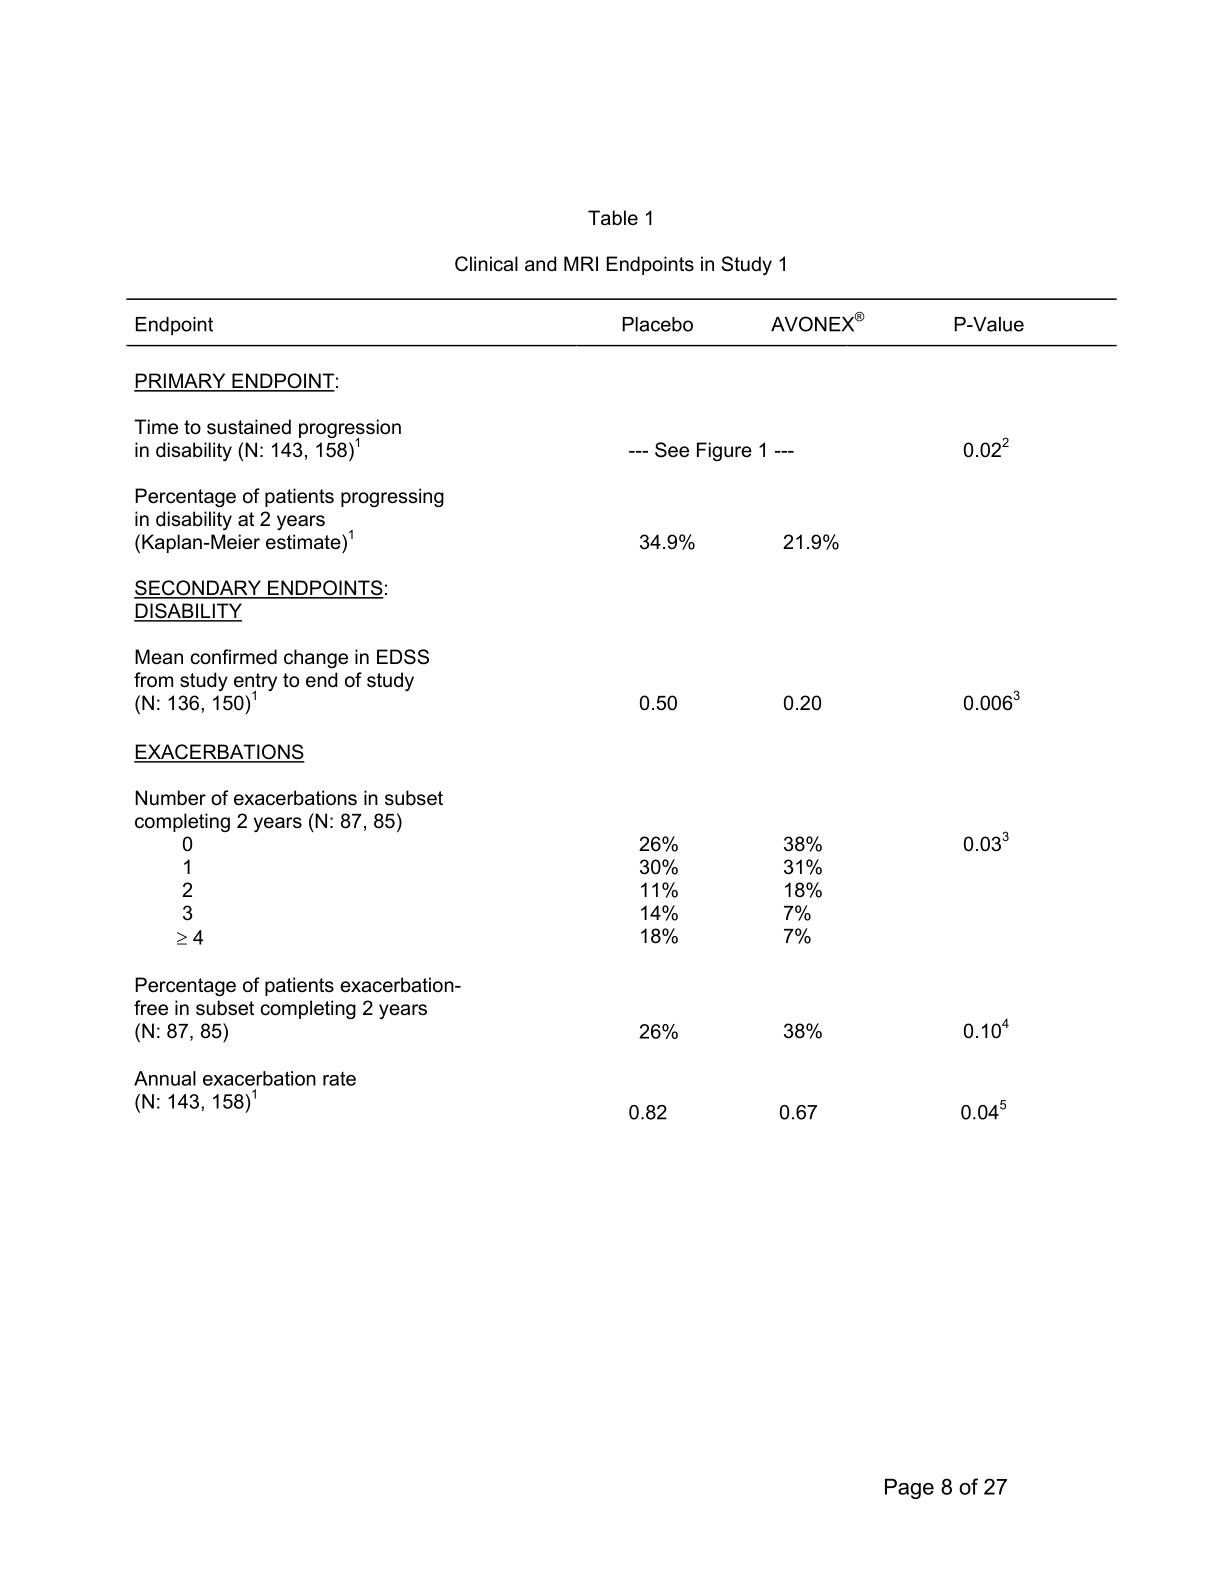partial_lined: (123, 294, 1119, 1131)
